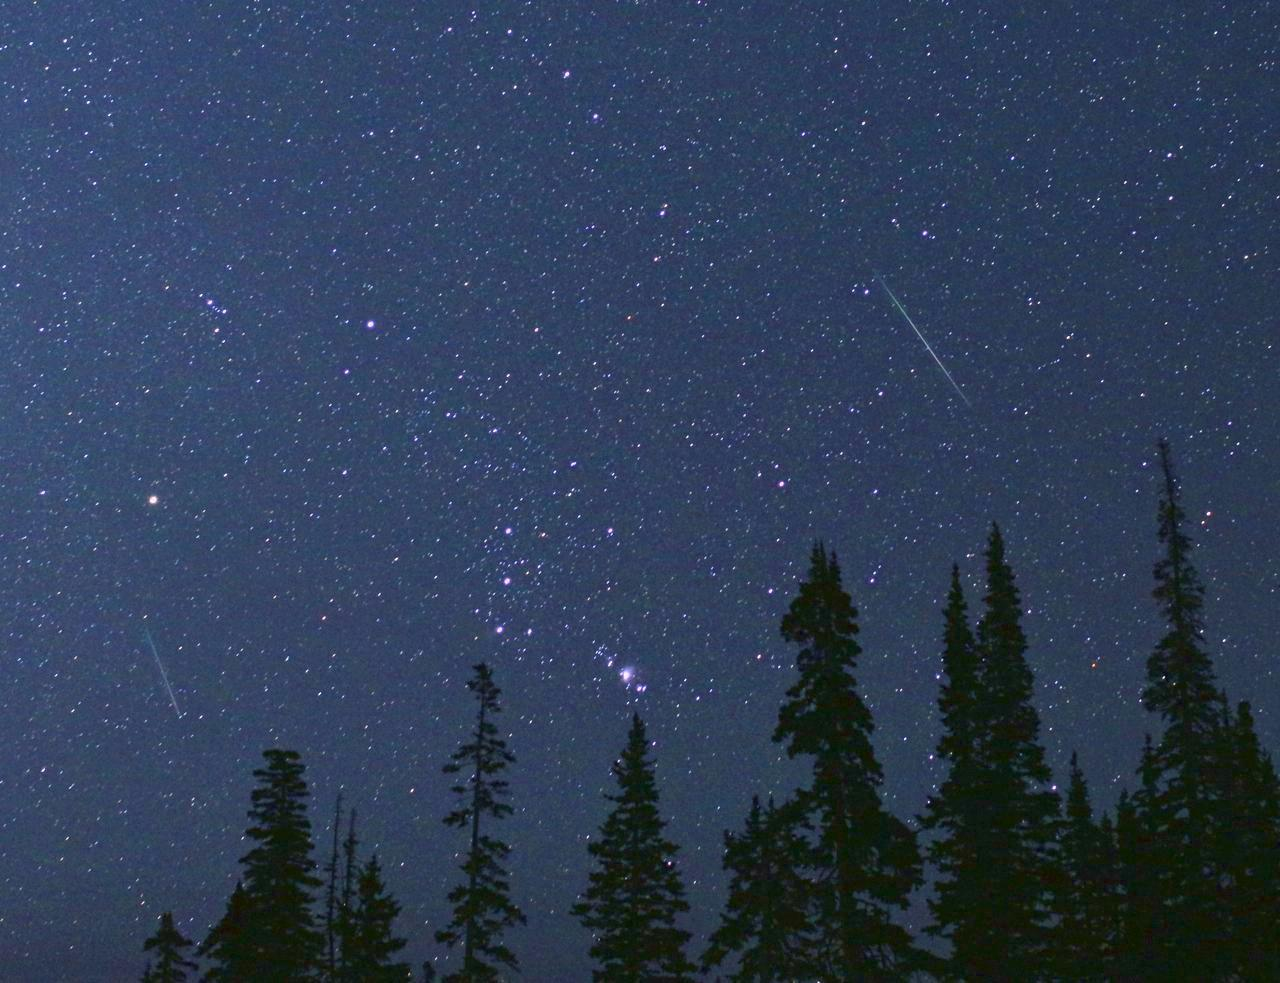meteorite: (883, 273, 968, 411), (145, 643, 194, 728)
